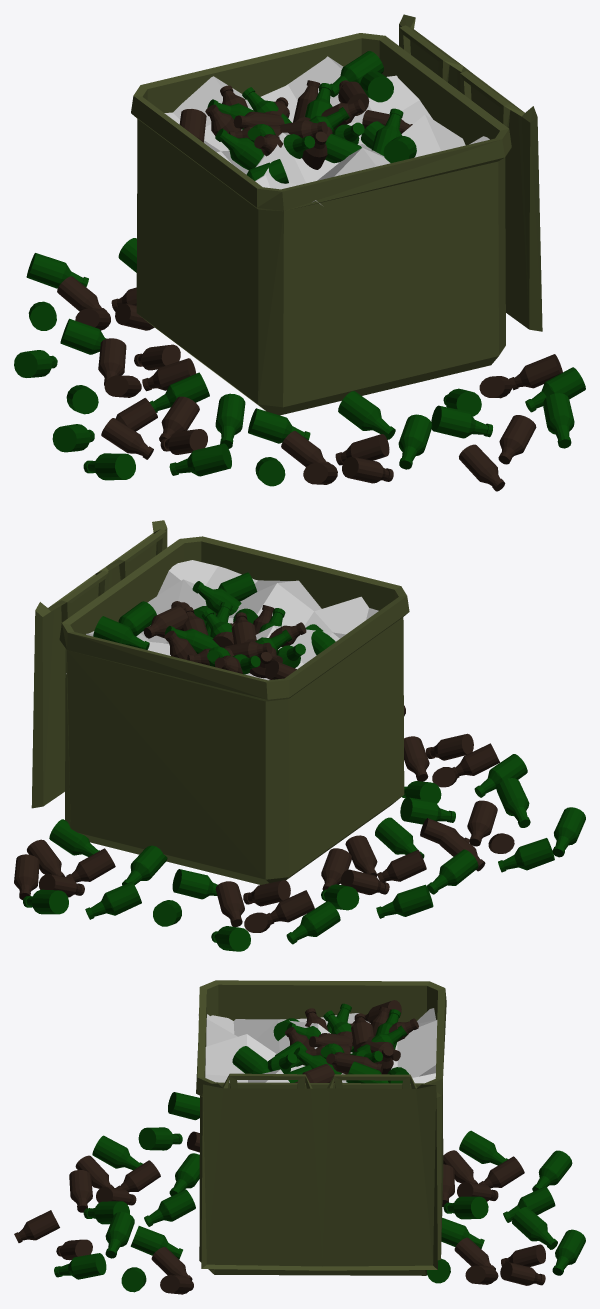
The model's file is model_Kosz_duzy_pelny_butle.fbx.
The picture shows the model from 3 angles, top to bottom: view 1: azimuth 30°, elevation 25°; view 2: azimuth 150°, elevation 25°; view 3: azimuth 270°, elevation 25°; orthographic projection. The views are drawn at different scales.
Parts seen in each view (by area): view 1: kosz_otwarty_pelny_butelki; view 2: kosz_otwarty_pelny_butelki; view 3: kosz_otwarty_pelny_butelki.
Boxes of the visible parts, x1,y1,x2,y2 form: kosz_otwarty_pelny_butelki: (14,14,585,491); kosz_otwarty_pelny_butelki: (14,520,585,951); kosz_otwarty_pelny_butelki: (14,980,585,1294).
Bounding box in the file's own units: 297 × 128 × 235.
